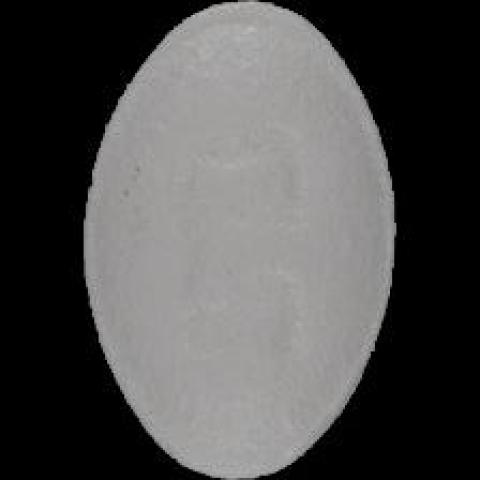Pill: (31, 3, 413, 480)
